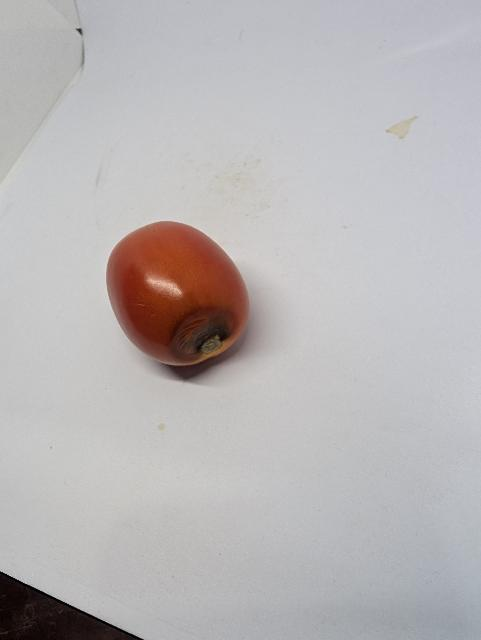defect: (103, 218, 252, 370)
